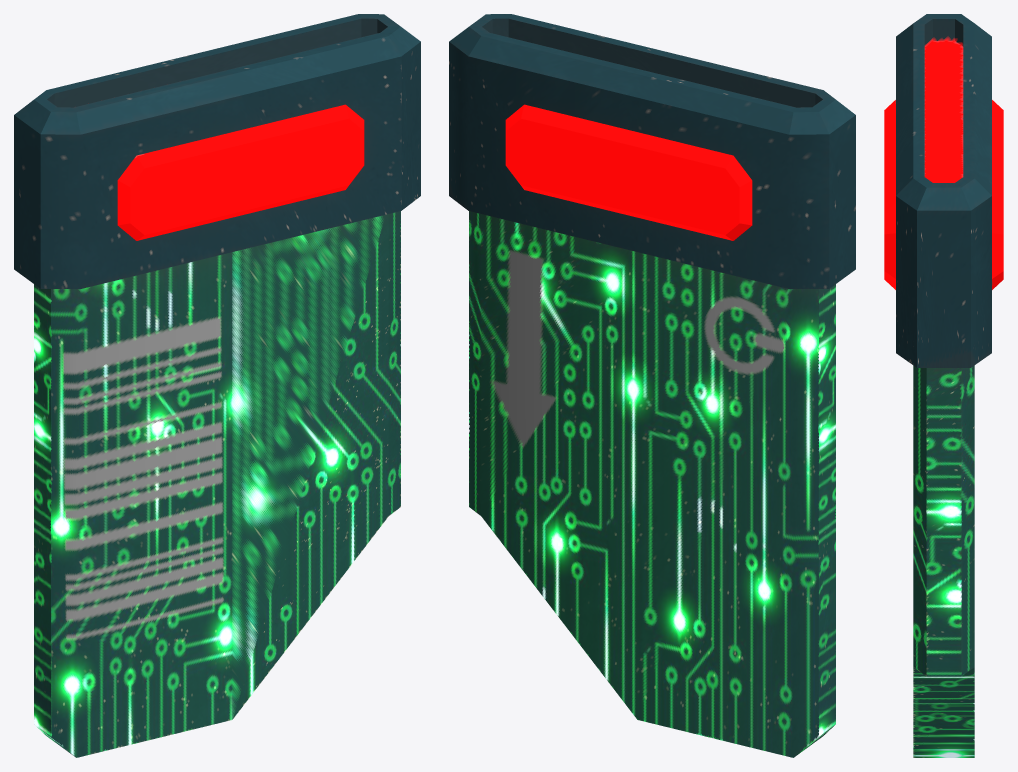
Rendered from key_card.glb.
3 views of the same model, side by side, from view 1: azimuth 30°, elevation 25°; view 2: azimuth 150°, elevation 25°; view 3: azimuth 270°, elevation 25° (orthographic).
Visible parts, largest first — view 1: ID_KeyCard_004.001; view 2: ID_KeyCard_004.001; view 3: ID_KeyCard_004.001.
Boxes of the visible parts, x1,y1,x2,y2 form: ID_KeyCard_004.001: (14, 14, 420, 757); ID_KeyCard_004.001: (449, 14, 855, 757); ID_KeyCard_004.001: (884, 14, 1003, 757).
Bounding box in the file's own units: 0.45 × 0.73 × 0.12.
Materials: 1 (1 with a texture image).
